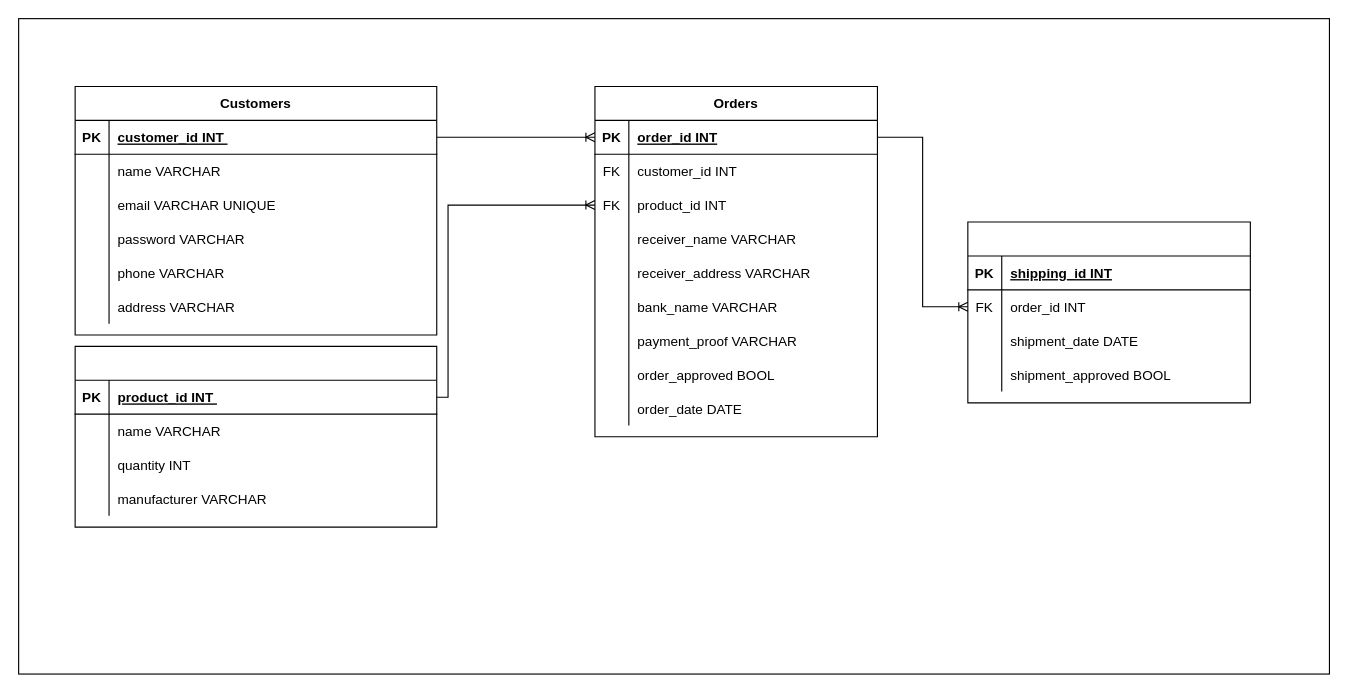
Image size: 1348x693. Some labels were removed from this diagram. The box of each missing label's shape, as (x1, y1, x2, y2) in pixels:
Products: (74, 345, 437, 527)
Shipments: (967, 221, 1250, 403)
